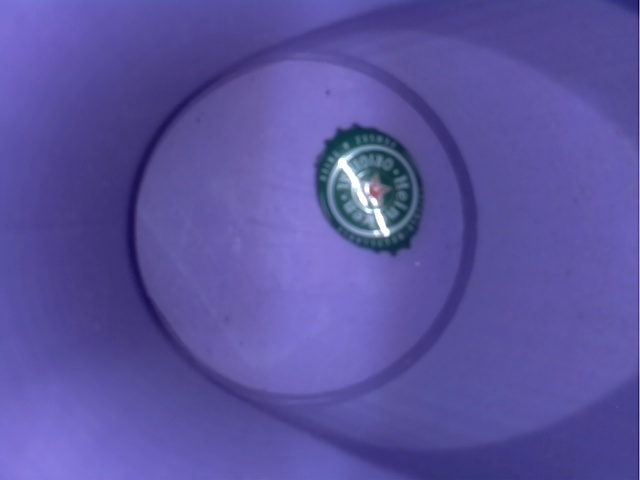capsule: (289, 101, 435, 266)
